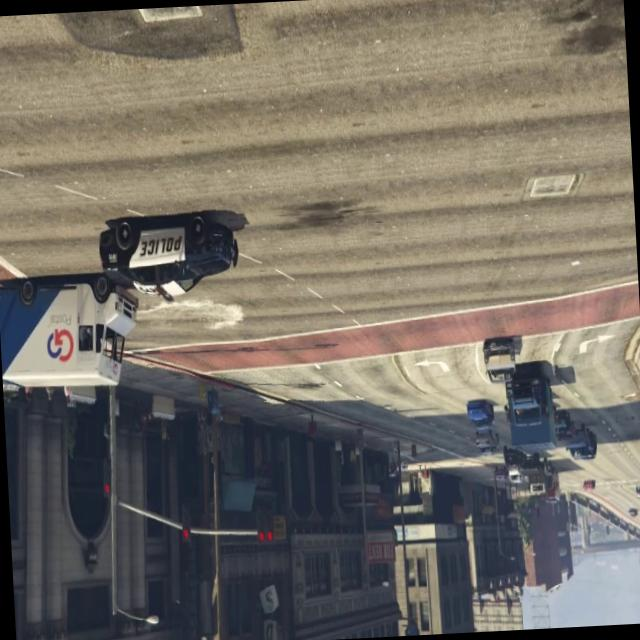Red-Signal: (249, 489, 279, 557), (93, 456, 124, 519), (172, 494, 198, 552)
